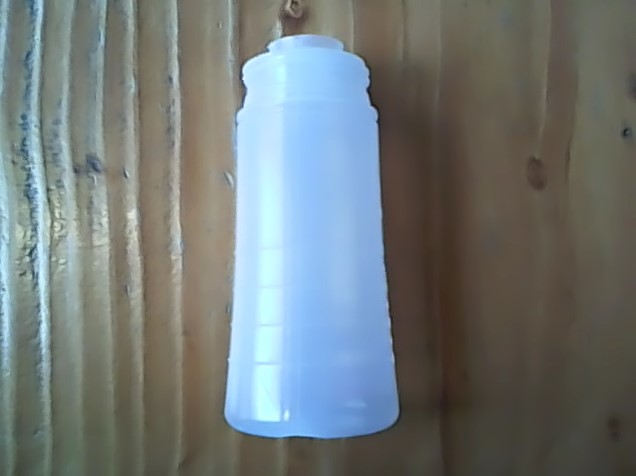Plastic: (215, 25, 406, 445)
